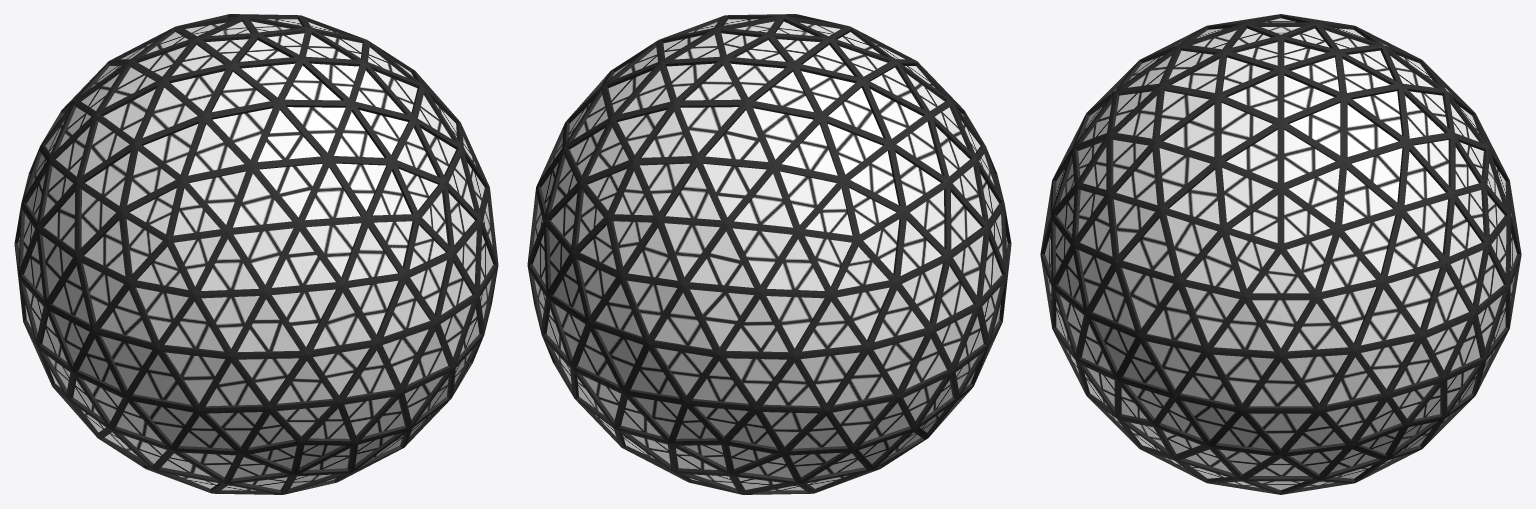
The model's file is NYC_Ball.fbx.
3 renders of one model, left to right at view 1: azimuth 30°, elevation 25°; view 2: azimuth 150°, elevation 25°; view 3: azimuth 270°, elevation 25°, orthographic.
Parts seen in each view (by area): view 1: NYC_Ball; view 2: NYC_Ball; view 3: NYC_Ball.
Part boxes in pixels (left/top/right/bottom): NYC_Ball: left=14, top=14, right=498, bottom=494; NYC_Ball: left=527, top=14, right=1011, bottom=494; NYC_Ball: left=1040, top=14, right=1521, bottom=494.
Bounding box in the file's own units: 1520 × 1520 × 1520.
